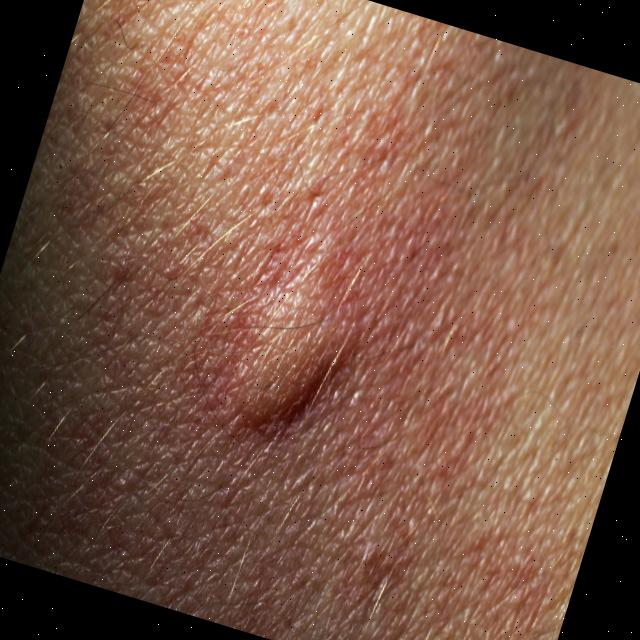sinek: (183, 201, 407, 475)
